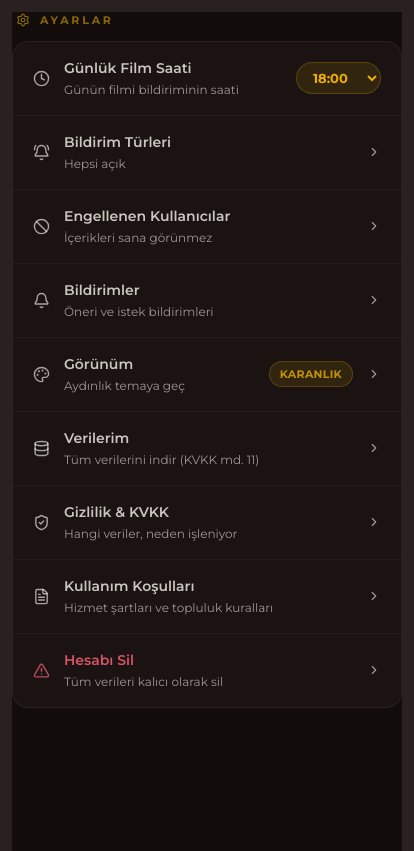
Test: Bildirim türleri › abone cihazda dört kategoriyi de listeler
What coordinates should you click on to do the following:
click the text "Bildirim Türleri"
I would click on:
 (118, 142)
Its box is x1=64 y1=132 x2=171 y2=150.
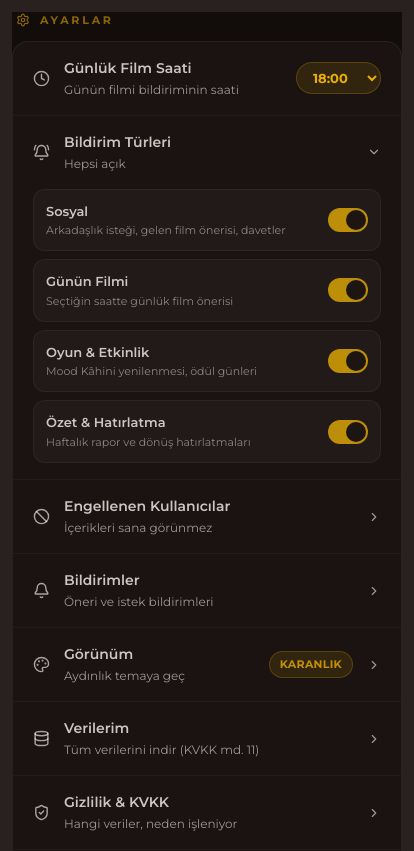
expect the switch labelled "Sosyal" is shown: met, box x1=33 y1=188 x2=381 y2=251
expect the switch labelled "Günün Filmi" is shown: met, box x1=33 y1=259 x2=381 y2=322
expect the switch labelled "Oyun & Etkinlik" is shown: met, box x1=33 y1=330 x2=381 y2=392
